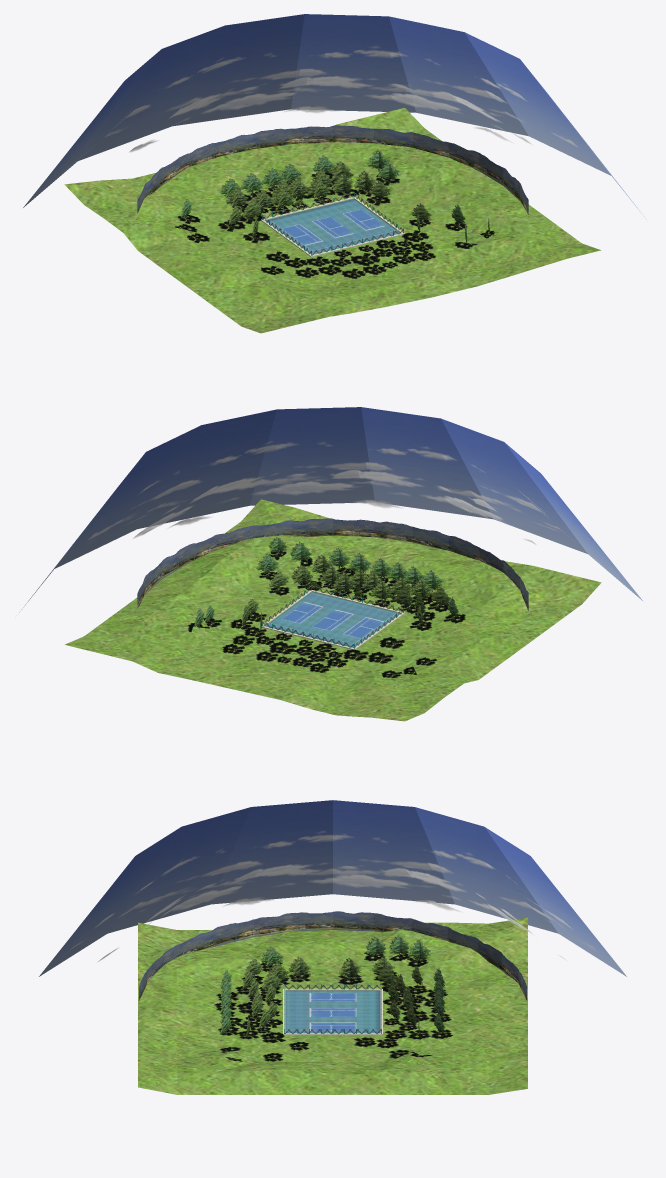
Rendered from tns_Field_b.glb.
3 views of the same model, one above another, from view 1: azimuth 30°, elevation 25°; view 2: azimuth 150°, elevation 25°; view 3: azimuth 270°, elevation 25° (orthographic).
Parts seen in each view (by area): view 1: polygon15, polygon52, polygon0, polygon57, polygon50, polygon117, polygon51, polygon1, polygon121, polygon2, polygon7, polygon53; view 2: polygon15, polygon52, polygon0, polygon57, polygon50, polygon117, polygon51, polygon1, polygon121, polygon2, polygon7, polygon53; view 3: polygon15, polygon52, polygon0, polygon57, polygon50, polygon117, polygon51, polygon1, polygon121, polygon2, polygon7.
Boxes of the visible parts, x1,y1,x2,y2 form: polygon15: [64, 108, 600, 333]; polygon52: [23, 14, 646, 219]; polygon0: [137, 125, 528, 214]; polygon57: [175, 172, 494, 278]; polygon50: [129, 76, 532, 151]; polygon117: [225, 161, 431, 237]; polygon51: [63, 46, 578, 172]; polygon1: [265, 199, 399, 254]; polygon121: [181, 150, 489, 242]; polygon2: [281, 209, 384, 245]; polygon7: [261, 192, 404, 256]; polygon53: [262, 193, 403, 255]; polygon15: [65, 499, 601, 721]; polygon52: [19, 407, 642, 612]; polygon0: [137, 518, 528, 610]; polygon57: [188, 551, 465, 678]; polygon50: [133, 470, 536, 544]; polygon117: [242, 555, 450, 630]; polygon51: [87, 441, 602, 565]; polygon1: [265, 592, 399, 647]; polygon121: [194, 537, 458, 628]; polygon2: [281, 602, 384, 638]; polygon7: [261, 585, 404, 649]; polygon53: [262, 586, 403, 647]; polygon15: [138, 917, 527, 1094]; polygon52: [39, 800, 626, 976]; polygon0: [139, 911, 526, 1000]; polygon57: [214, 951, 452, 1061]; polygon50: [98, 862, 567, 961]; polygon117: [242, 956, 422, 1037]; polygon51: [70, 830, 595, 950]; polygon1: [285, 990, 380, 1033]; polygon121: [220, 935, 445, 1035]; polygon2: [309, 993, 356, 1031]; polygon7: [283, 984, 382, 1035].
Size of the model in its own units: 3271 by 963 by 3271.
14 materials, 14 textured.
